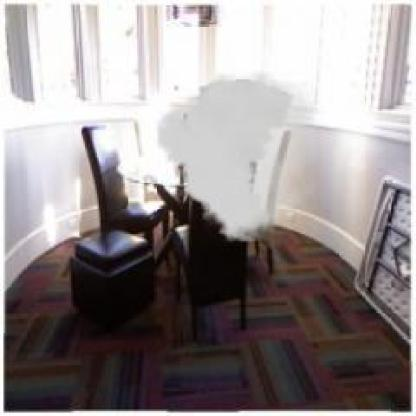Smoke: (156, 70, 317, 242)
